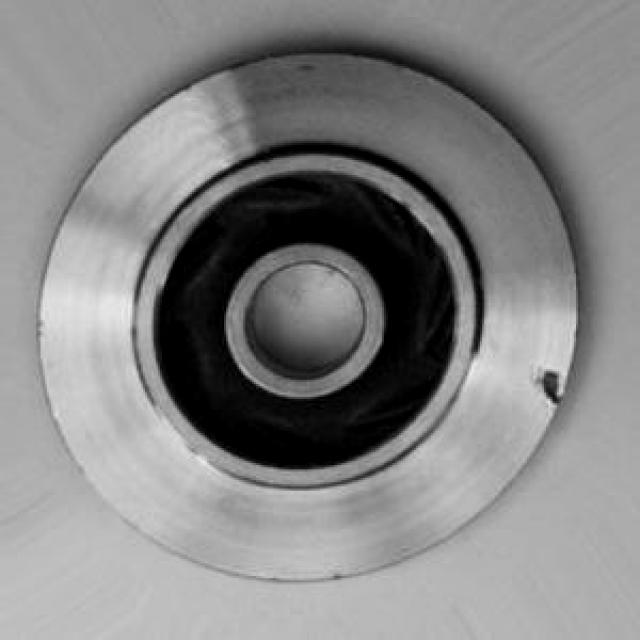Defect: (541, 362, 565, 417)
